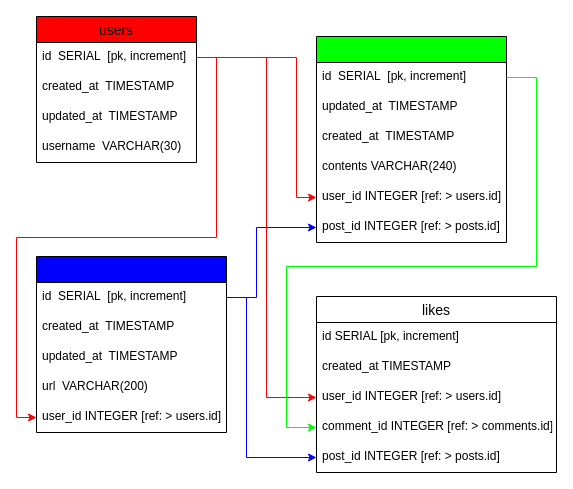
Some shapes in this 573 by 489 pixel diagram are drawn without their labels. Each missing label, with the box of its shape:
comments: (316, 36, 506, 242)
posts: (36, 256, 226, 432)
